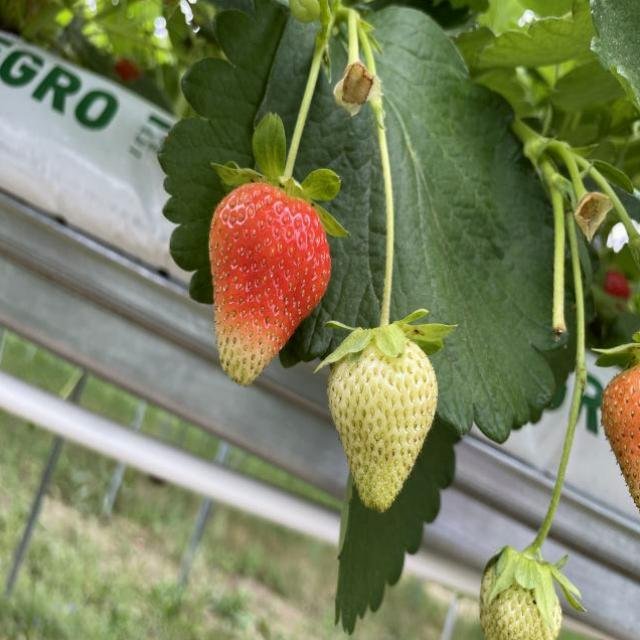stem: (319, 75, 456, 370), (212, 23, 348, 236)
strawberryNR: (328, 340, 438, 511)
strawberryR: (209, 183, 331, 384)
